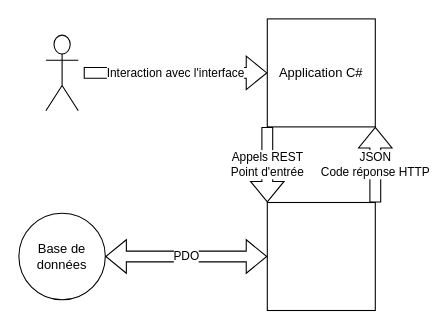
Image size: 448x329. Some labels were removed from this diagram. The shapes that lost their labels are listed below. From the top down, each one's centre as x and y in pixels, then its label:
[61,72]: Utilisateur
[320,255]: API Rest
